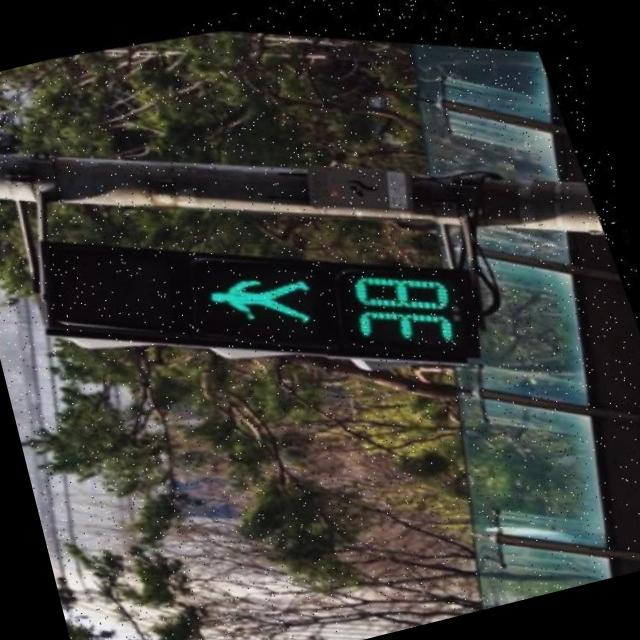green_light: (190, 183, 489, 403)
